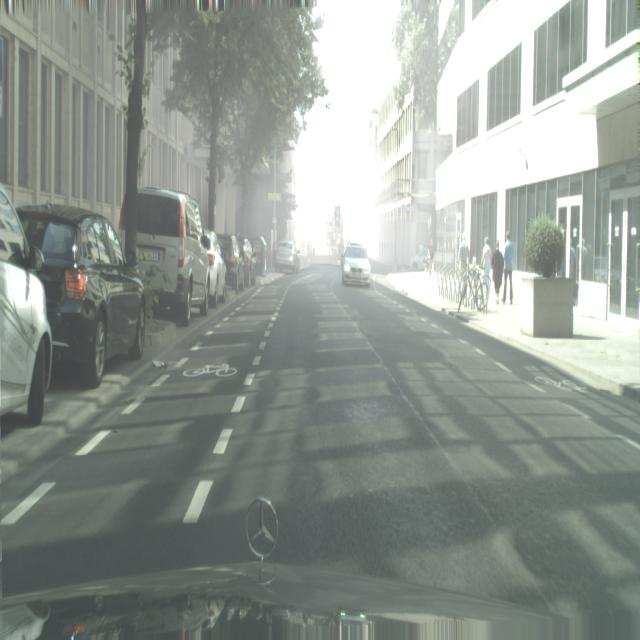car: (458, 264, 478, 311), (469, 264, 484, 312), (481, 268, 490, 314)
person: (502, 229, 515, 304), (480, 234, 492, 307), (458, 232, 470, 299), (492, 239, 504, 305), (458, 232, 470, 272), (428, 236, 436, 278)
truck: (16, 206, 147, 388), (0, 182, 53, 427), (119, 187, 210, 327), (202, 230, 228, 307), (216, 233, 245, 294), (341, 241, 371, 288), (274, 239, 300, 274), (240, 236, 257, 285), (250, 234, 268, 275), (410, 249, 429, 271)
